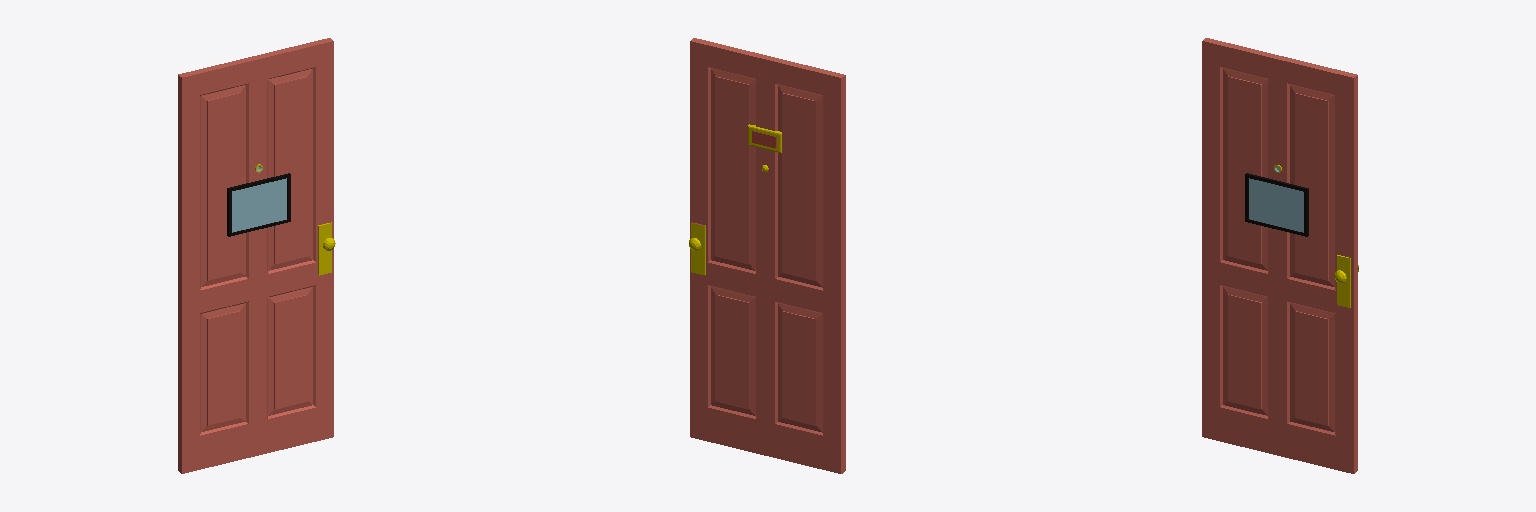
The picture shows the model from 3 angles: view 1: azimuth 30°, elevation 25°; view 2: azimuth 150°, elevation 25°; view 3: azimuth 330°, elevation 25°; orthographic projection.
Visible parts, largest first — view 1: puertaPrincipal2:Object002polySurface19; view 2: puertaPrincipal2:Object002polySurface19; view 3: puertaPrincipal2:Object002polySurface19.
Boxes of the visible parts, x1,y1,x2,y2 form: puertaPrincipal2:Object002polySurface19: [178, 38, 335, 473]; puertaPrincipal2:Object002polySurface19: [689, 38, 845, 473]; puertaPrincipal2:Object002polySurface19: [1202, 38, 1358, 473].
Size of the model in its own units: 0.5161 by 1.29 by 0.1031.
5 materials, 5 textured.